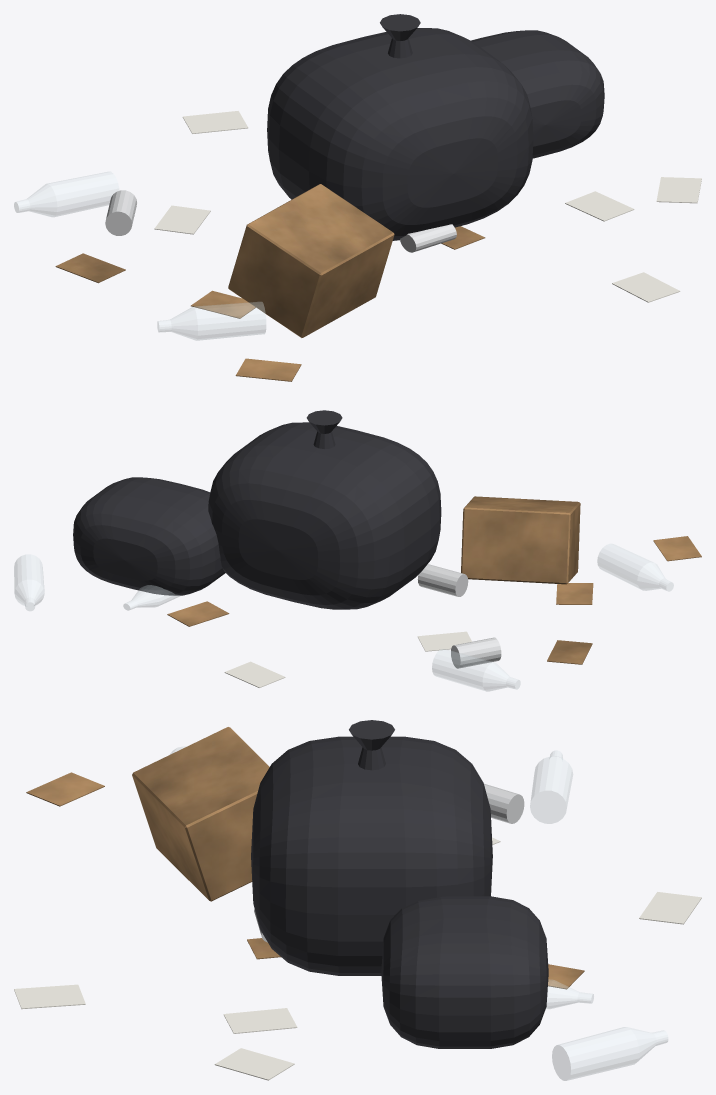
The model's file is lixo_espalhado.glb.
3 views of the same model, one above another, from view 1: azimuth 30°, elevation 25°; view 2: azimuth 150°, elevation 25°; view 3: azimuth 270°, elevation 25° (orthographic). The views are drawn at different scales.
Parts seen in each view (by area): view 1: lixo_espalhado_saco_lixo, lixo_espalhado_papelao, lixo_espalhado_pet, lixo_espalhado_papel, lixo_espalhado_lata; view 2: lixo_espalhado_saco_lixo, lixo_espalhado_papelao, lixo_espalhado_pet, lixo_espalhado_lata, lixo_espalhado_papel; view 3: lixo_espalhado_saco_lixo, lixo_espalhado_papelao, lixo_espalhado_pet, lixo_espalhado_papel, lixo_espalhado_lata.
Boxes of the visible parts, left/top/right/bottom form: lixo_espalhado_saco_lixo: left=267, top=14, right=604, bottom=240; lixo_espalhado_papelao: left=55, top=184, right=485, bottom=381; lixo_espalhado_pet: left=14, top=172, right=265, bottom=340; lixo_espalhado_papel: left=154, top=111, right=701, bottom=302; lixo_espalhado_lata: left=105, top=190, right=456, bottom=252; lixo_espalhado_saco_lixo: left=73, top=410, right=441, bottom=609; lixo_espalhado_papelao: left=167, top=496, right=701, bottom=664; lixo_espalhado_pet: left=14, top=544, right=673, bottom=691; lixo_espalhado_lata: left=417, top=564, right=501, bottom=668; lixo_espalhado_papel: left=224, top=631, right=471, bottom=687; lixo_espalhado_saco_lixo: left=251, top=720, right=548, bottom=1048; lixo_espalhado_papelao: left=26, top=727, right=584, bottom=989; lixo_espalhado_pet: left=170, top=746, right=667, bottom=1080; lixo_espalhado_papel: left=14, top=837, right=701, bottom=1080; lixo_espalhado_lata: left=254, top=783, right=524, bottom=942.
Bounding box in the file's own units: 1.64 × 0.5343 × 1.48.
Materials: 5 (1 with a texture image).
